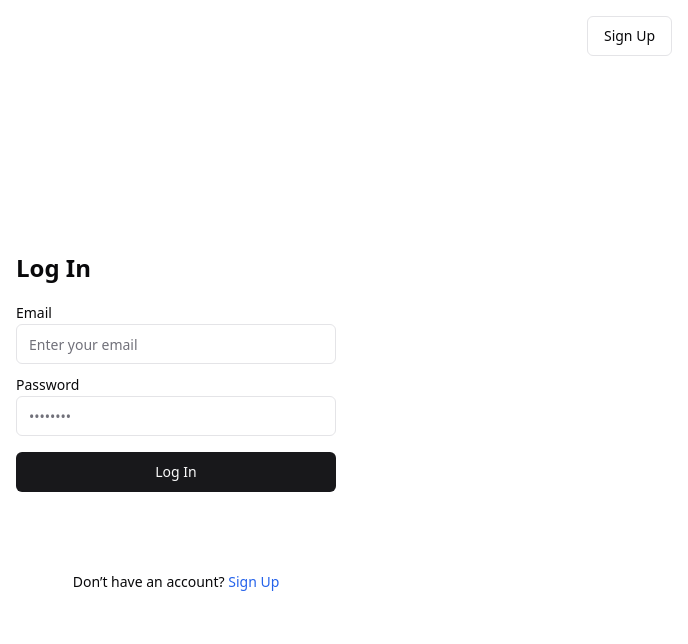
Scenario: Navigation Between Sign-in and Sign-up Pages › navigates from Sign-in to Sign-up via header
This screenshot has width=688, height=644.
Click the link with test id "signup-button-header".
click(630, 36)  # box [587,16,672,56]
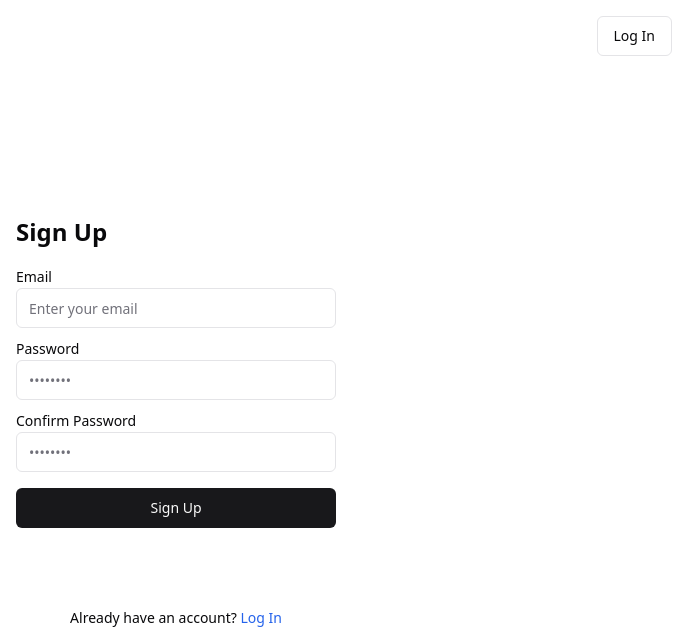
Expected: the heading "Sign Up" is shown, [16,215,107,248]
